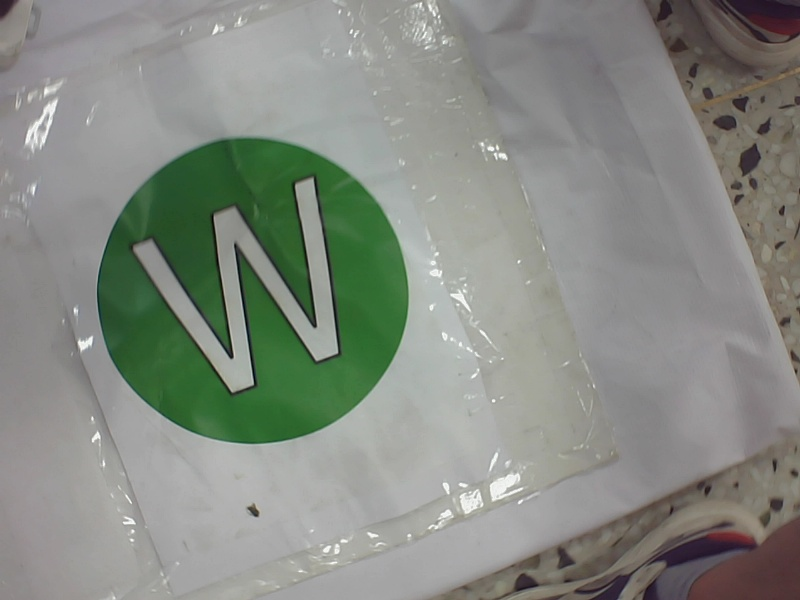areaB: (73, 136, 433, 454)
